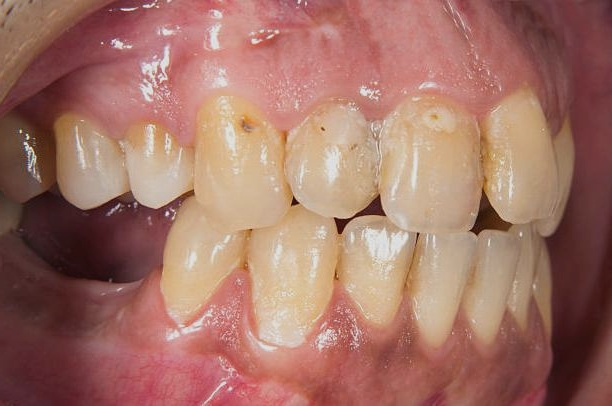Gingivitis: (472, 305, 552, 395), (200, 281, 255, 365), (370, 319, 418, 398), (315, 305, 362, 378)
